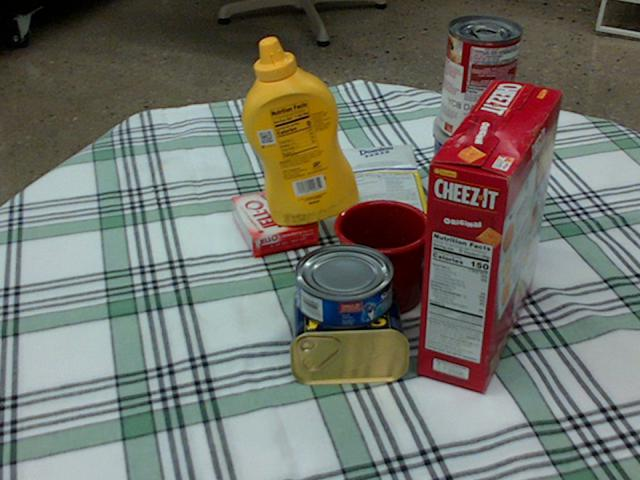cracker_box: (417, 80, 563, 392)
gelatin_box: (232, 188, 318, 259)
master_chef_can: (426, 102, 539, 270)
mug: (334, 201, 457, 317)
mustard_bottle: (241, 38, 357, 225)
potted_meat_can: (293, 275, 412, 382)
sugar_box: (333, 142, 431, 259)
tomato_soup_can: (439, 16, 520, 143)
tuna_fish_can: (294, 244, 393, 328)
